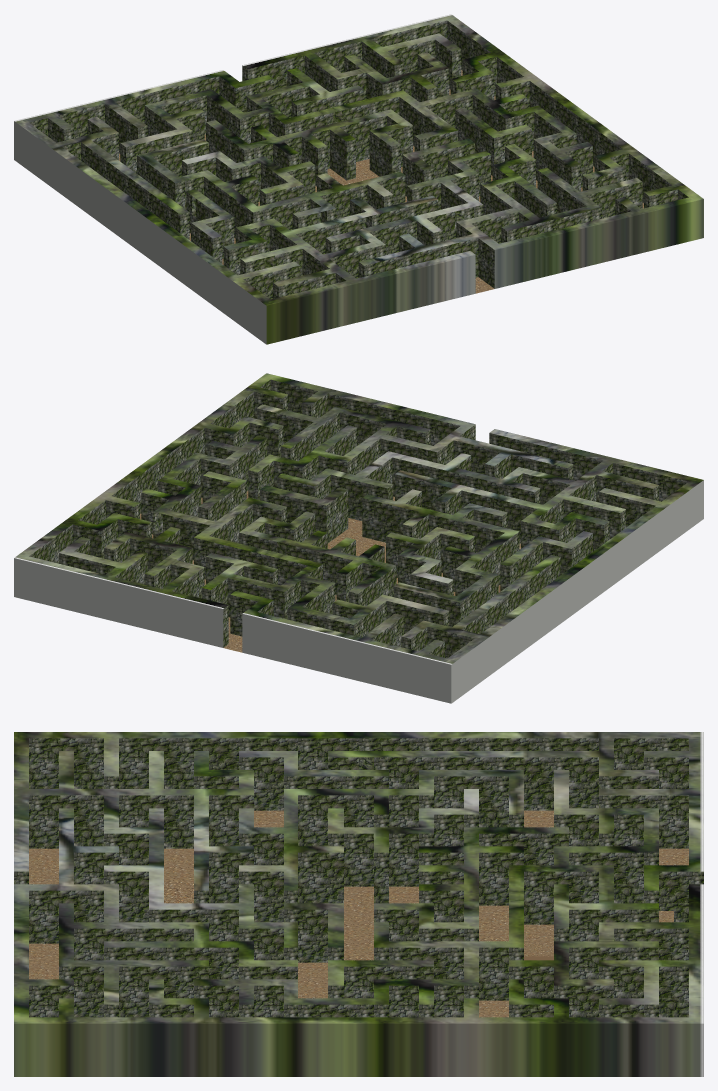
Rendered from New Maze - pitlesss.fbx.
3 renders of one model, top to bottom at view 1: azimuth 30°, elevation 25°; view 2: azimuth 150°, elevation 25°; view 3: azimuth 270°, elevation 25°, orthographic. The views are drawn at different scales.
Parts seen in each view (by area): view 1: OuterWall.002, OuterWall.004, OuterWall.003, OuterWall.005, OuterWall.001, OuterWall.006, InnerWall.037, InnerWall.082, InnerWall.089, InnerWall.087, InnerWall.046, InnerWall.098 (+80 smaller); view 2: OuterWall.002, OuterWall.001, OuterWall.006, OuterWall.005, OuterWall.004, OuterWall.003, InnerWall.082, InnerWall.087, InnerWall.037, InnerWall.089, InnerWall.046, InnerWall.032 (+79 smaller); view 3: OuterWall.005, OuterWall.002, Floor, InnerWall.101, InnerWall.037, InnerWall.070, InnerWall.042, InnerWall.054, InnerWall.079, InnerWall.031, InnerWall.019, InnerWall.036 (+76 smaller).
Part boxes in pixels (x1,y1,x2,y2): OuterWall.002: (19,122,275,344); OuterWall.004: (489,195,703,288); OuterWall.003: (271,251,475,342); OuterWall.005: (442,14,697,202); OuterWall.001: (14,70,228,163); OuterWall.006: (242,16,447,89); InnerWall.037: (81,140,189,239); InnerWall.082: (258,172,405,230); InnerWall.089: (325,203,473,254); InnerWall.087: (290,195,438,254); InnerWall.046: (249,109,395,168); InnerWall.098: (358,234,478,277); OuterWall.002: (447,477,703,699); OuterWall.001: (242,610,456,703); OuterWall.006: (23,556,228,647); OuterWall.005: (14,377,270,599); OuterWall.004: (261,373,475,445); OuterWall.003: (489,429,693,501); InnerWall.082: (362,494,509,552); InnerWall.087: (395,470,542,543); InnerWall.037: (452,555,560,634); InnerWall.089: (392,453,540,503); InnerWall.046: (239,528,386,595); InnerWall.032: (194,533,313,585); OuterWall.005: (29,1017,703,1076); OuterWall.002: (14,732,688,788); Floor: (29,810,688,1017); InnerWall.101: (29,789,253,848); InnerWall.037: (328,751,598,810); InnerWall.070: (59,960,208,1017); InnerWall.042: (284,789,418,846); InnerWall.054: (389,941,508,1000); InnerWall.079: (344,827,418,886); InnerWall.031: (509,865,598,924); InnerWall.019: (599,960,688,1017); InnerWall.036: (419,770,508,827).
Size of the model in its own units: 2164 by 184 by 2164.
